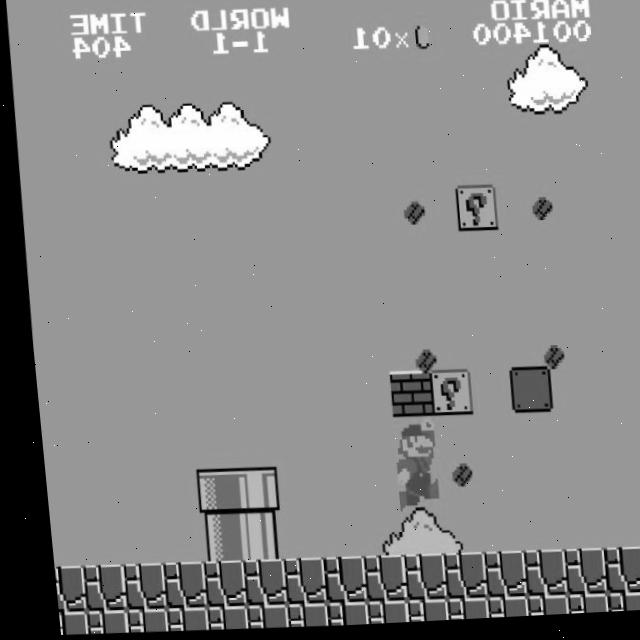0- big_mario: (381, 419, 434, 516)
1- brick_block: (379, 373, 425, 422)
13- mystery_block: (420, 372, 465, 421), (449, 189, 494, 236)
14- pipe: (227, 514, 273, 562), (187, 515, 233, 563)
15- pipe_head: (225, 468, 270, 517), (185, 469, 230, 518)
17- undestructible_block: (550, 552, 596, 601), (510, 553, 556, 602), (470, 554, 516, 603), (590, 552, 636, 600), (109, 563, 155, 611), (430, 555, 475, 604), (390, 556, 435, 605), (350, 557, 395, 606), (310, 558, 355, 607), (270, 559, 315, 608), (190, 561, 235, 610), (150, 561, 195, 610), (230, 560, 275, 608), (70, 564, 115, 612), (43, 564, 75, 612), (313, 603, 356, 629), (233, 605, 276, 631), (193, 606, 236, 632), (153, 607, 196, 633), (113, 608, 156, 634), (73, 609, 116, 635), (353, 602, 395, 628), (273, 605, 316, 630), (393, 601, 435, 626), (513, 598, 555, 621), (473, 600, 515, 623), (433, 601, 475, 624), (593, 597, 635, 618), (553, 598, 595, 619), (46, 610, 75, 634), (630, 550, 640, 599), (633, 595, 640, 616)
3- empty_block: (500, 370, 545, 419)
